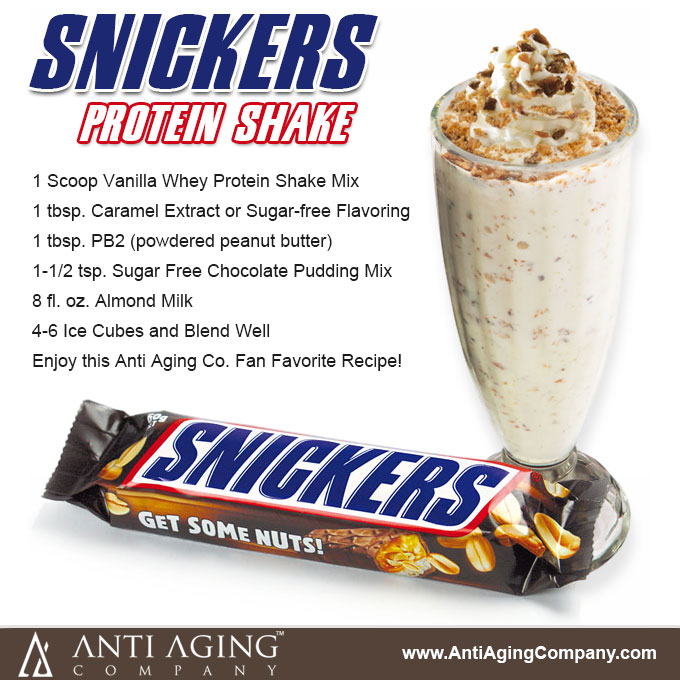snickers: (141, 419, 506, 524), (28, 12, 380, 88), (141, 419, 550, 477)
